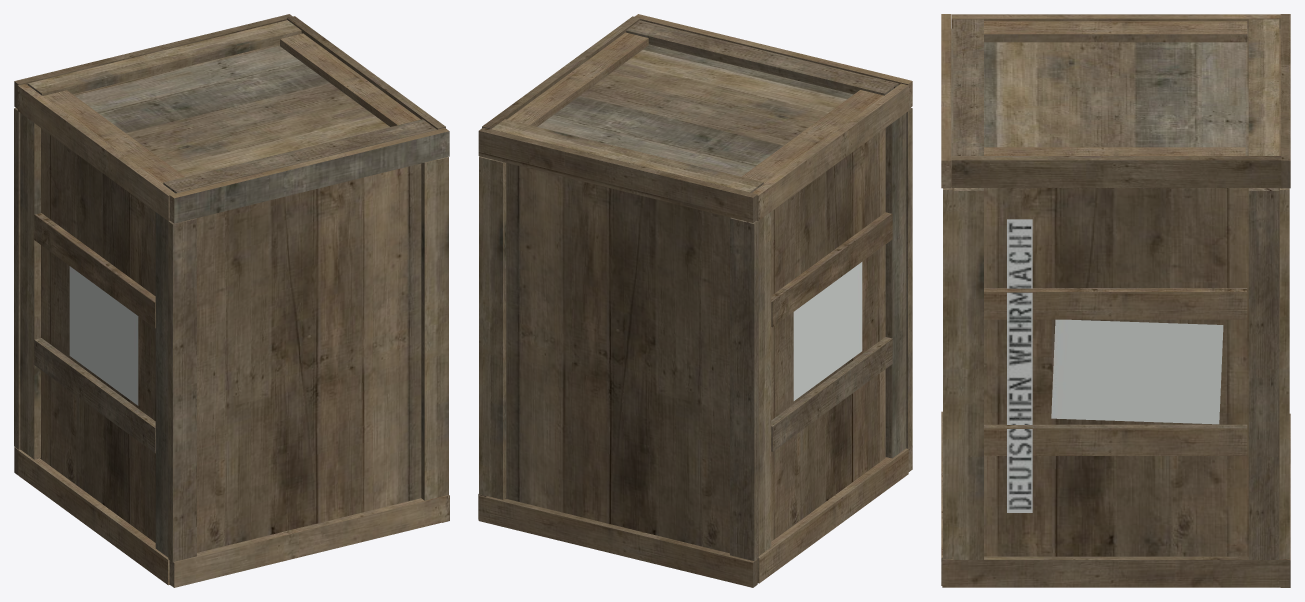
File: prop_crate_wehrmacht1a.glb
3 views of the same model, side by side, from view 1: azimuth 30°, elevation 25°; view 2: azimuth 150°, elevation 25°; view 3: azimuth 270°, elevation 25° (orthographic). The views are drawn at different scales.
Size of the model in its own units: 36.16 by 48.49 by 35.86.
Materials: 2 (2 with a texture image).
